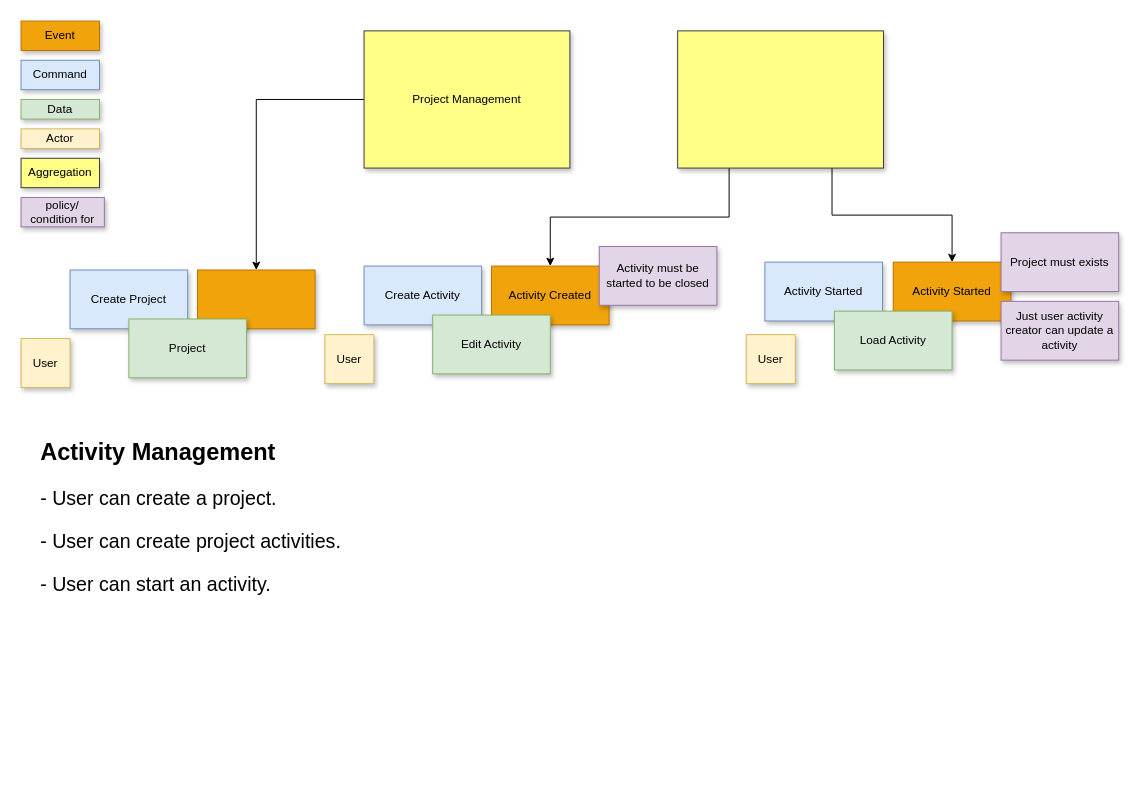
This 1142x809 diagram has some shape labels left out. The shapes that lost their labels are listed below. From the top down, each one's centre as x and y in pixels, then its label:
point (781, 100): Activity Management
point (257, 300): Project Created
